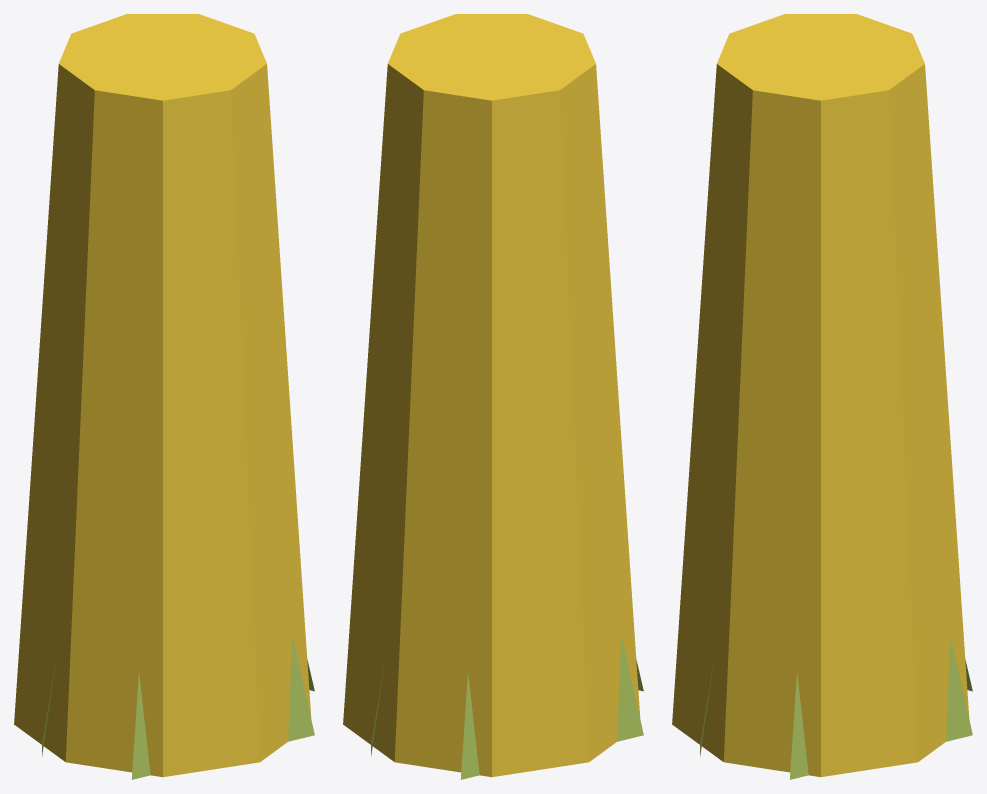
Rendered from corn_item.obj.
3 views of the same model, side by side, from view 1: azimuth 30°, elevation 25°; view 2: azimuth 150°, elevation 25°; view 3: azimuth 270°, elevation 25° (orthographic).
Parts seen in each view (by area): view 1: item; view 2: item; view 3: item.
Boxes of the visible parts, x1,y1,x2,y2 form: item: (14, 14, 314, 779); item: (343, 14, 643, 779); item: (672, 14, 972, 779).
Bounding box in the file's own units: 0.2086 × 0.48 × 0.1991.
